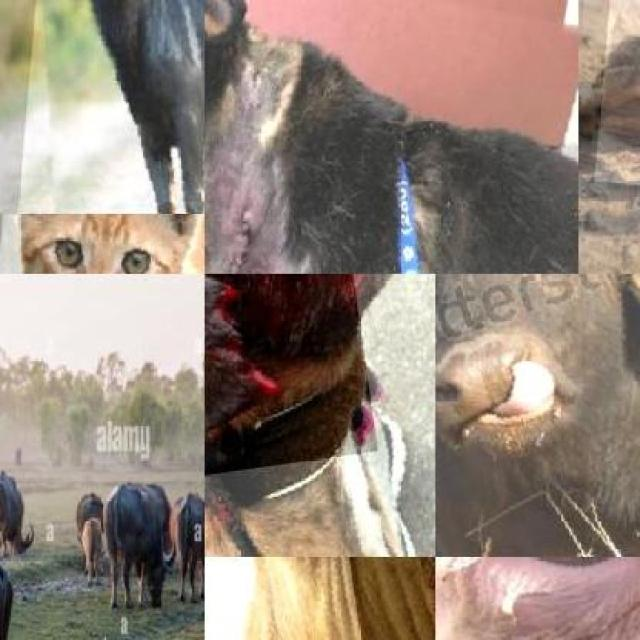buffalo: (435, 274, 640, 557), (11, 0, 204, 214), (104, 494, 176, 603), (170, 488, 204, 595), (0, 472, 26, 551)
cat: (435, 557, 640, 640), (0, 214, 205, 274)
dog: (204, 0, 578, 274), (204, 274, 436, 557)
injured: (205, 274, 377, 492), (205, 160, 289, 274), (578, 59, 640, 186)
